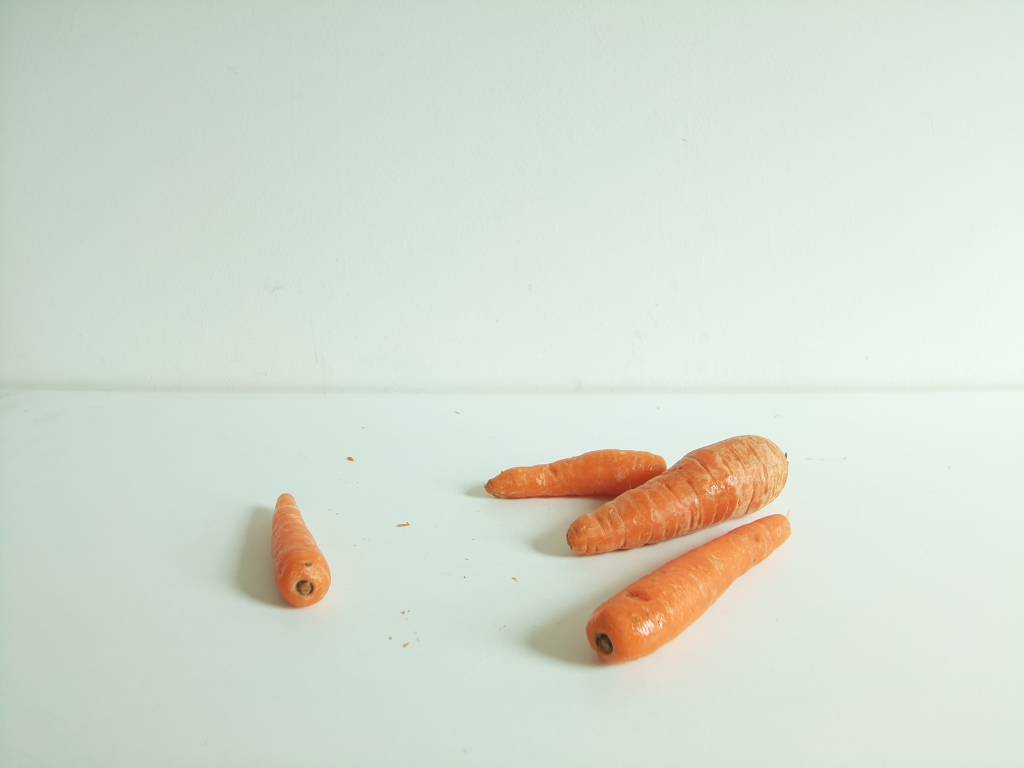carrot: (489, 433, 787, 552), (587, 512, 801, 675), (270, 491, 331, 610)
